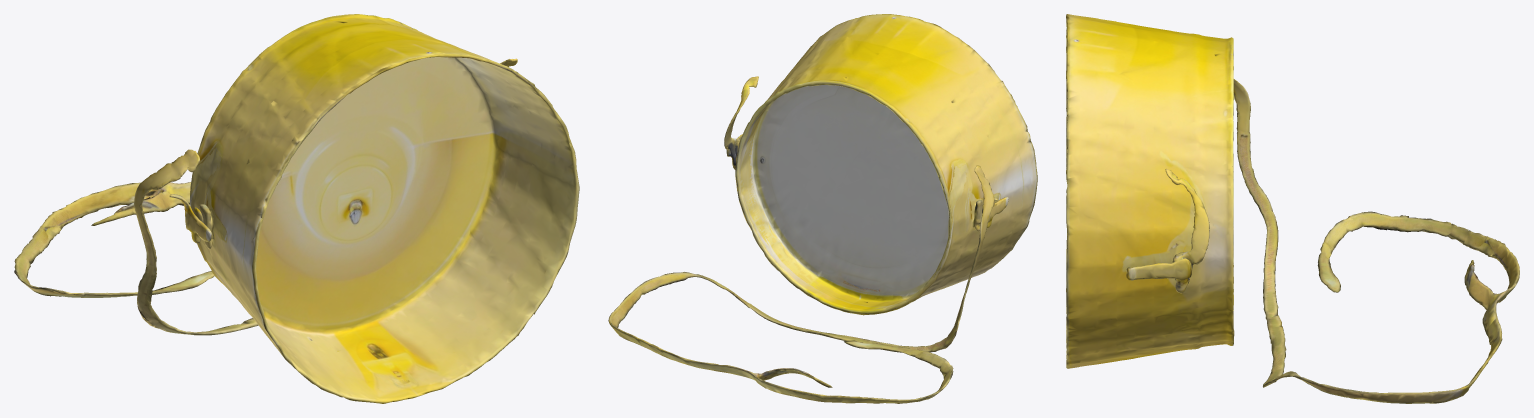
The model's file is OxygenMask1.fbx.
3 views of the same model, side by side, from view 1: azimuth 30°, elevation 25°; view 2: azimuth 150°, elevation 25°; view 3: azimuth 270°, elevation 25° (orthographic). The views are drawn at different scales.
Parts seen in each view (by area): view 1: Mesh_0; view 2: Mesh_0; view 3: Mesh_0.
Part boxes in pixels (x1,y1,x2,y2): Mesh_0: (14,14,579,403); Mesh_0: (608,14,1037,403); Mesh_0: (1066,14,1519,403).
Bounding box in the file's own units: 200 × 156 × 199.
Materials: 1 (1 with a texture image).
